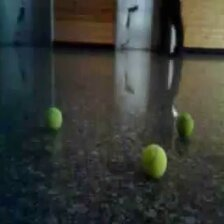tennis: (139, 143, 169, 179), (175, 112, 195, 141), (44, 106, 63, 131)
